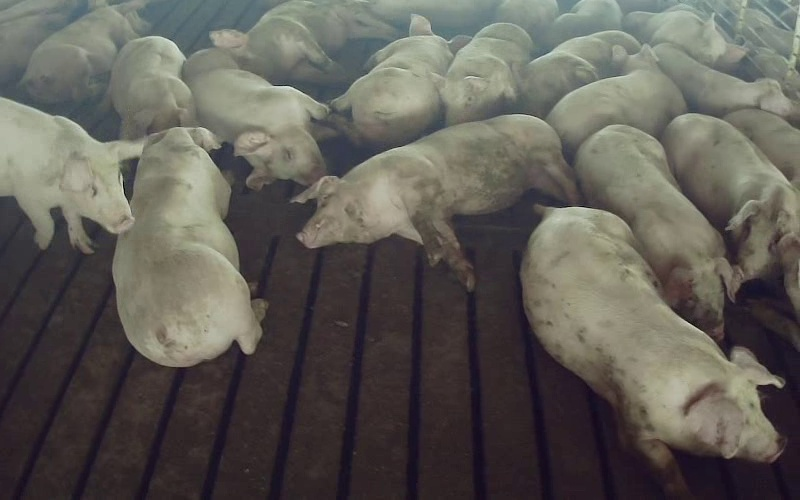pig: (521, 207, 783, 495), (294, 115, 578, 290), (113, 127, 266, 366), (574, 124, 735, 340), (661, 113, 799, 279), (183, 48, 336, 189), (328, 15, 470, 148), (546, 44, 686, 161), (210, 0, 396, 83), (518, 30, 639, 117), (652, 43, 792, 116), (441, 23, 531, 125), (109, 36, 195, 139), (623, 9, 746, 70)
